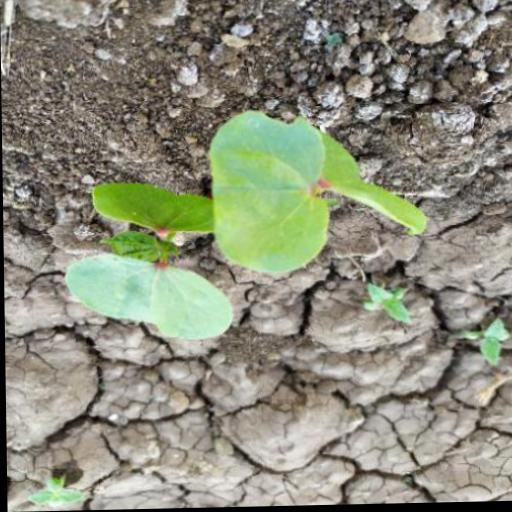weed: (53, 96, 429, 357)
